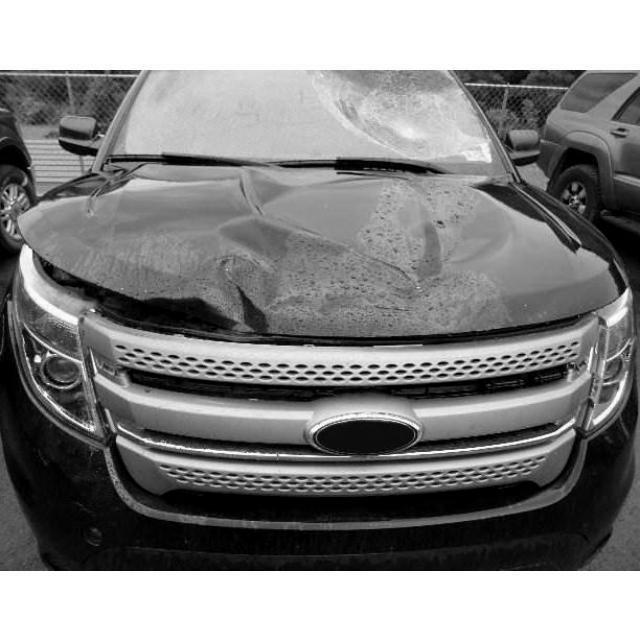bonnet-dent: (30, 165, 561, 338)
